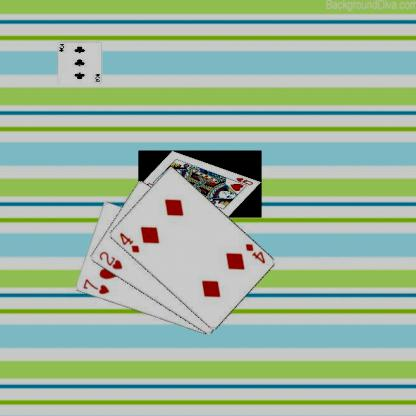2H: (96, 248, 123, 270)
4D: (116, 230, 140, 254), (242, 241, 266, 265)
7H: (80, 276, 110, 296)
